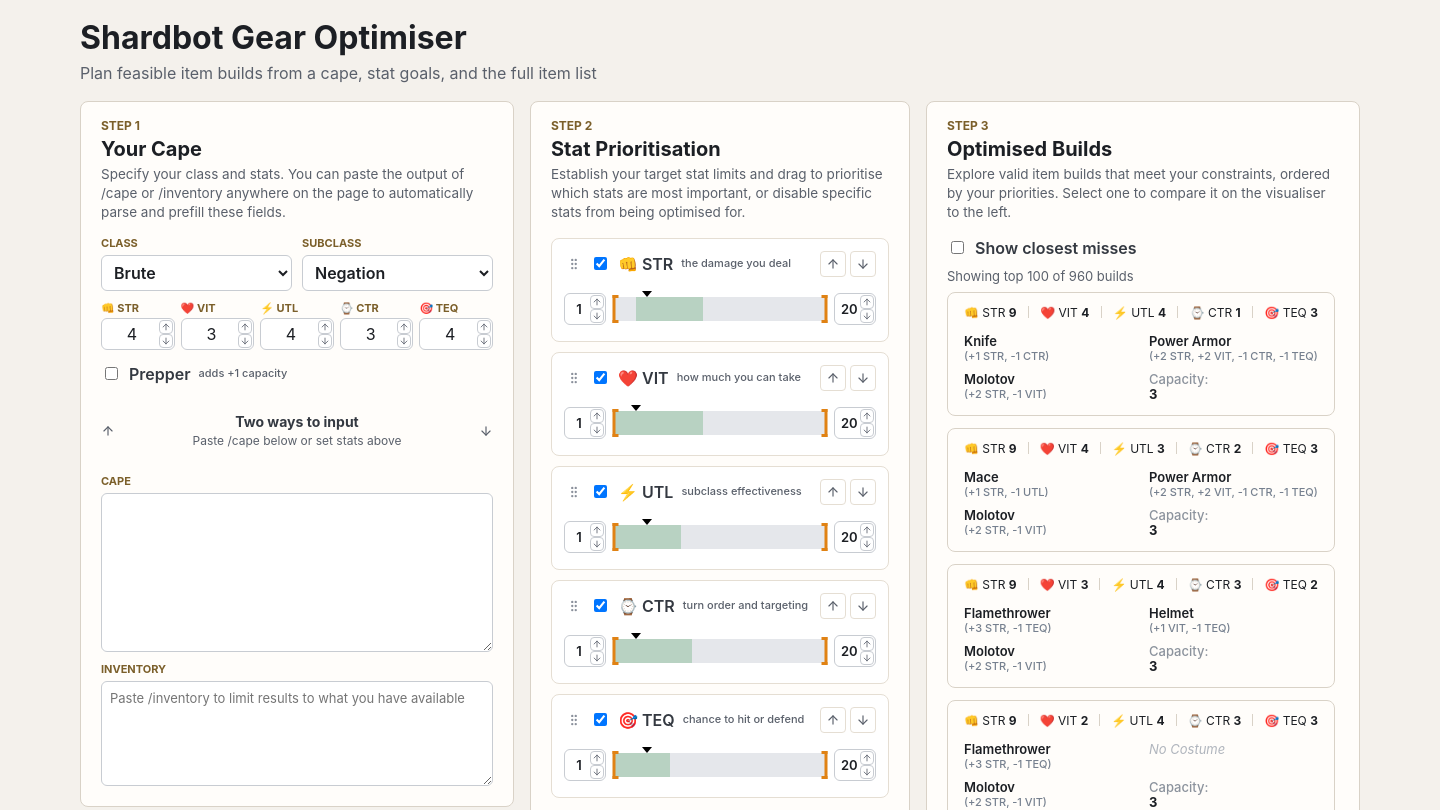
Scenario: App › clamps goal min and max inputs to the handbook bounds
Select "Tinker" in the dropdown labelled "Class" at (196, 273), box [101,255,292,291]
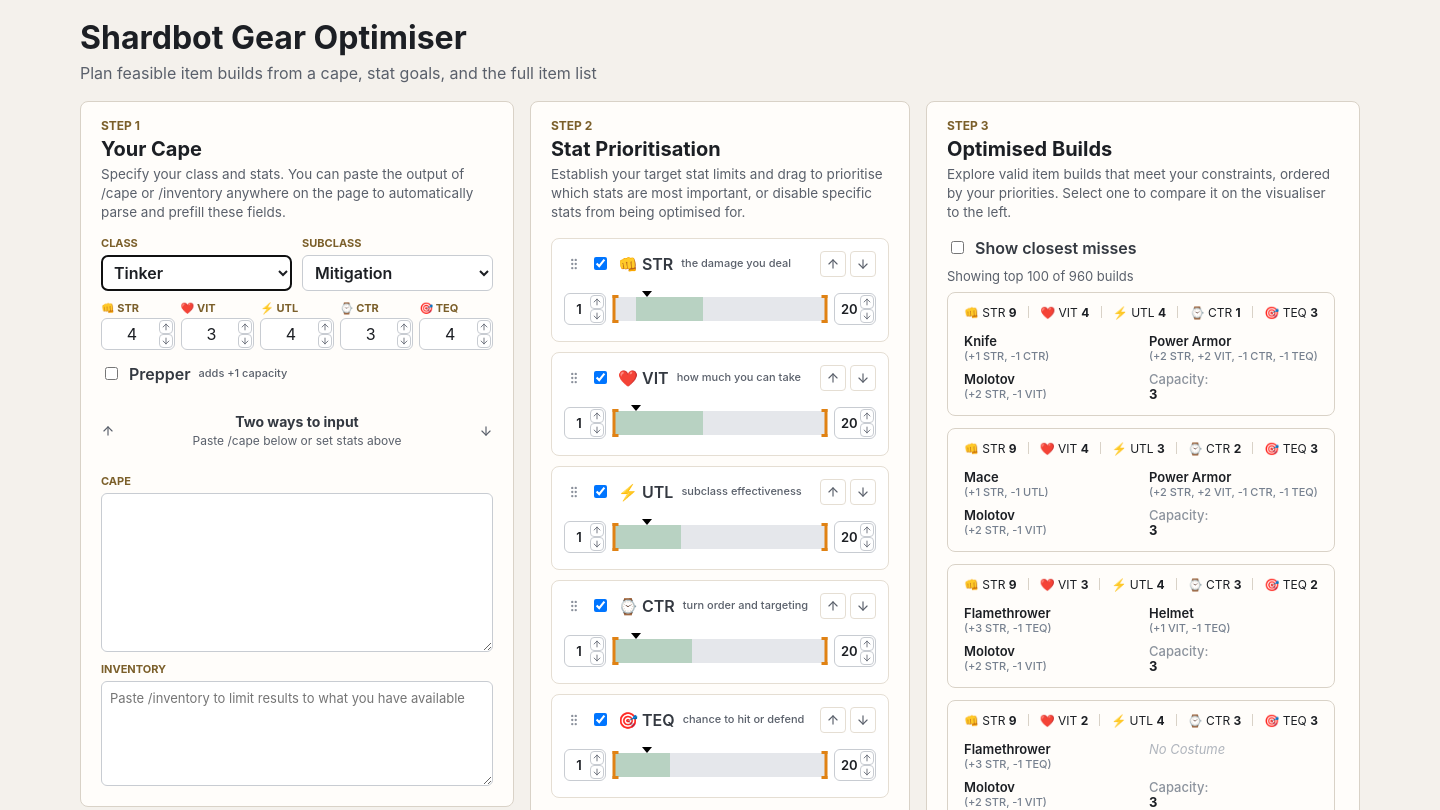
Select "Combat" in the dropdown labelled "Subclass" at (398, 273), box [302,255,493,291]
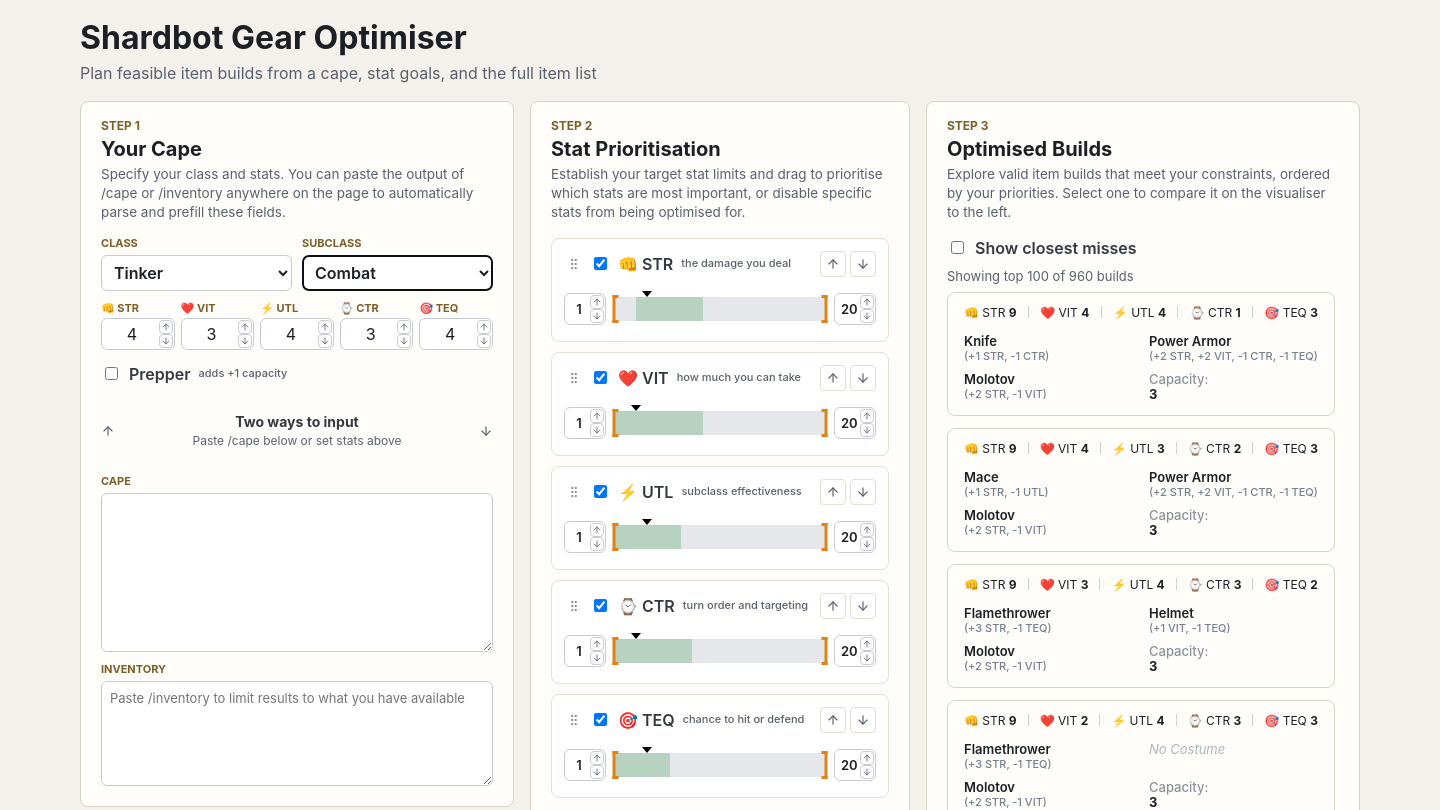
Replace the text in the field named "min" below "the damage you deal" with "0" at (585, 309), box [564,293,606,325]
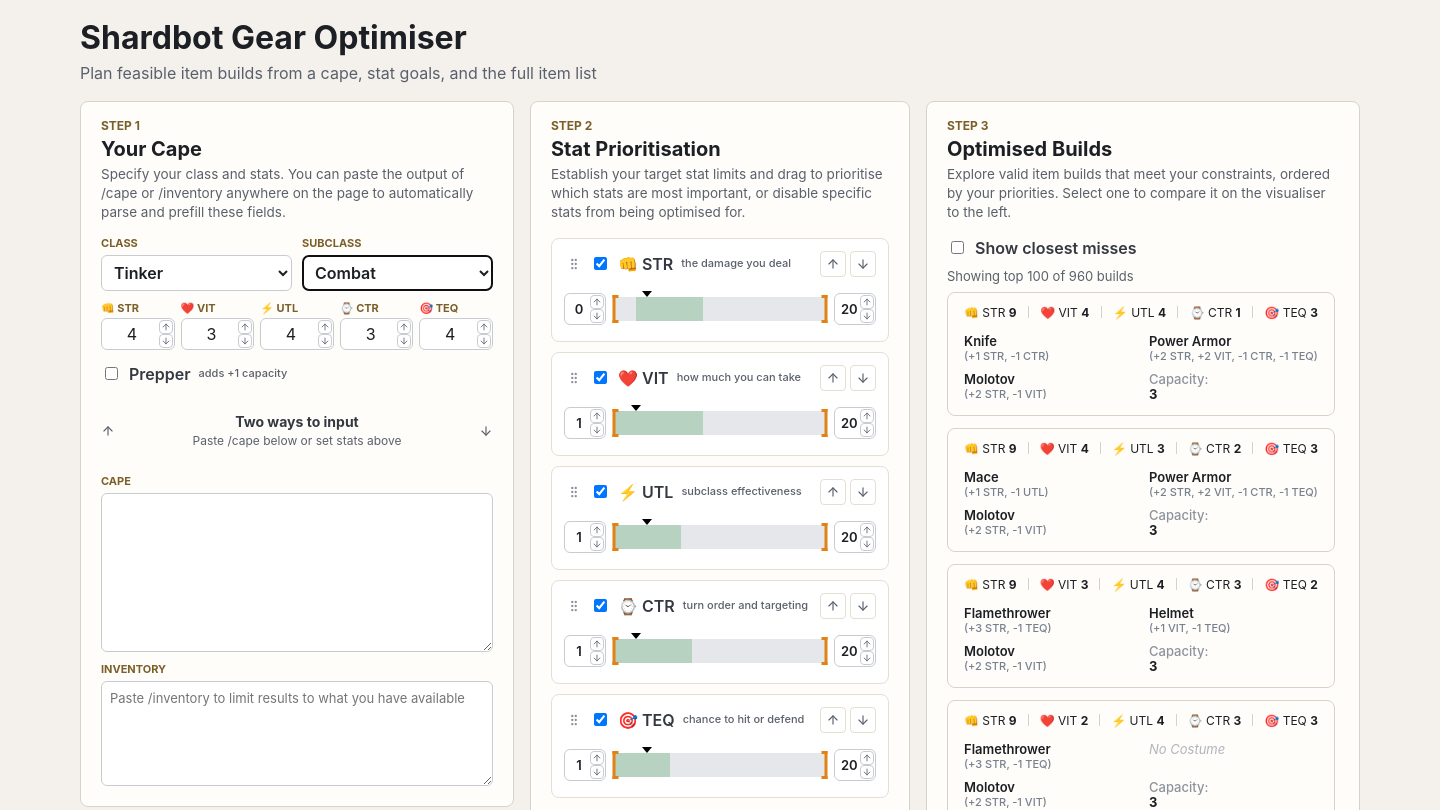
Leave the field named "min" below "the damage you deal", box [564,293,606,325]
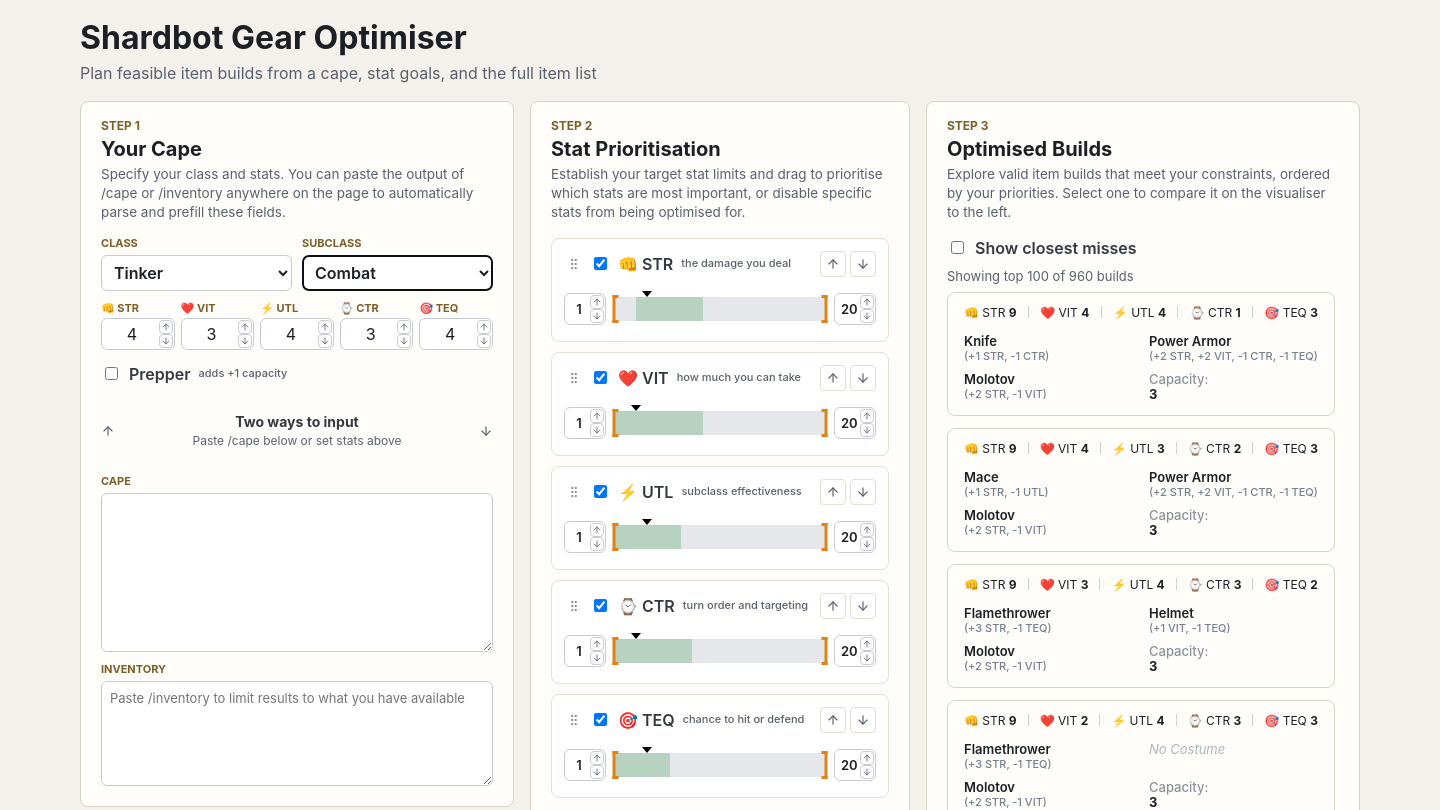
Expected: the field named "min" below "the damage you deal" holds "1", [564,293,606,325]
Replace the text in the field named "max" below "the damage you deal" with "21" at (855, 309), box [834,293,876,325]
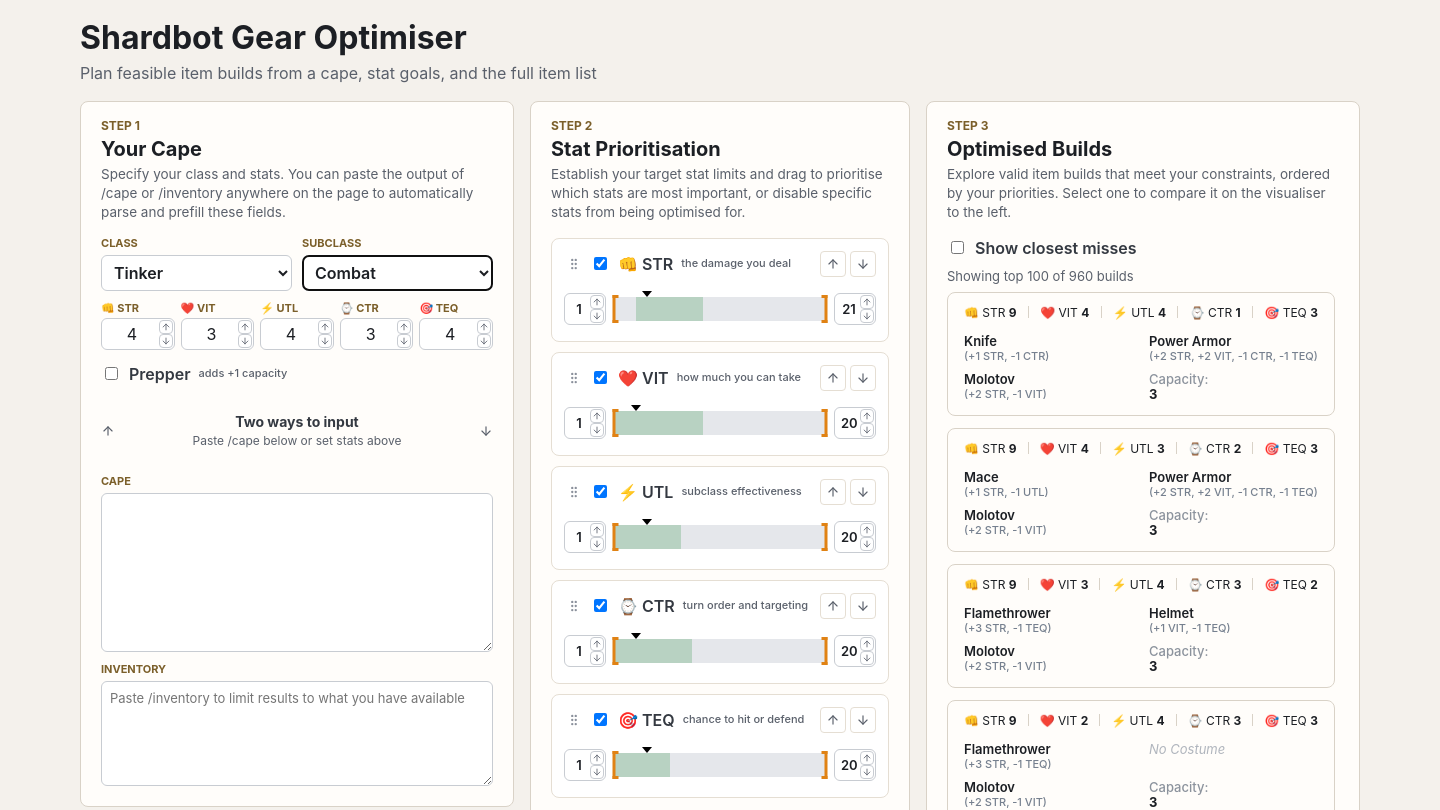
Leave the field named "max" below "the damage you deal", box [834,293,876,325]
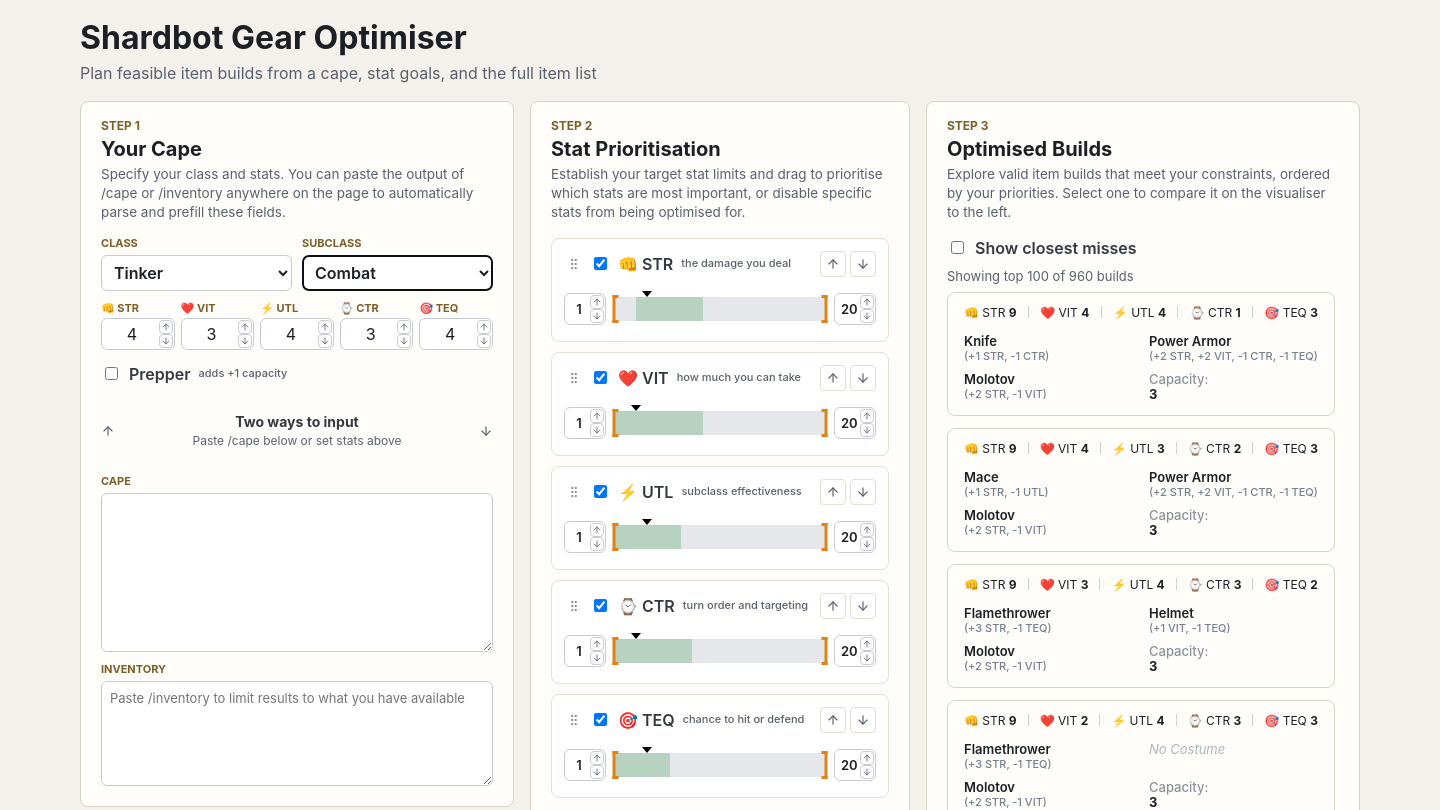
Expected: the field named "max" below "the damage you deal" holds "20", [834,293,876,325]
